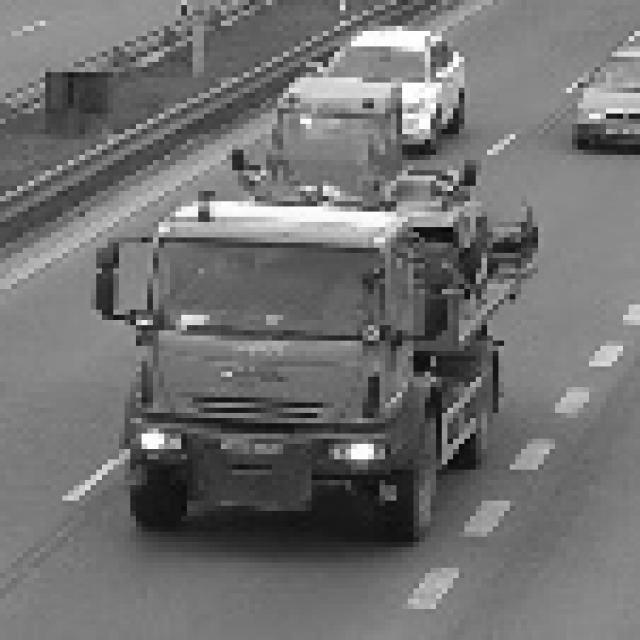truck: (86, 171, 465, 533)
